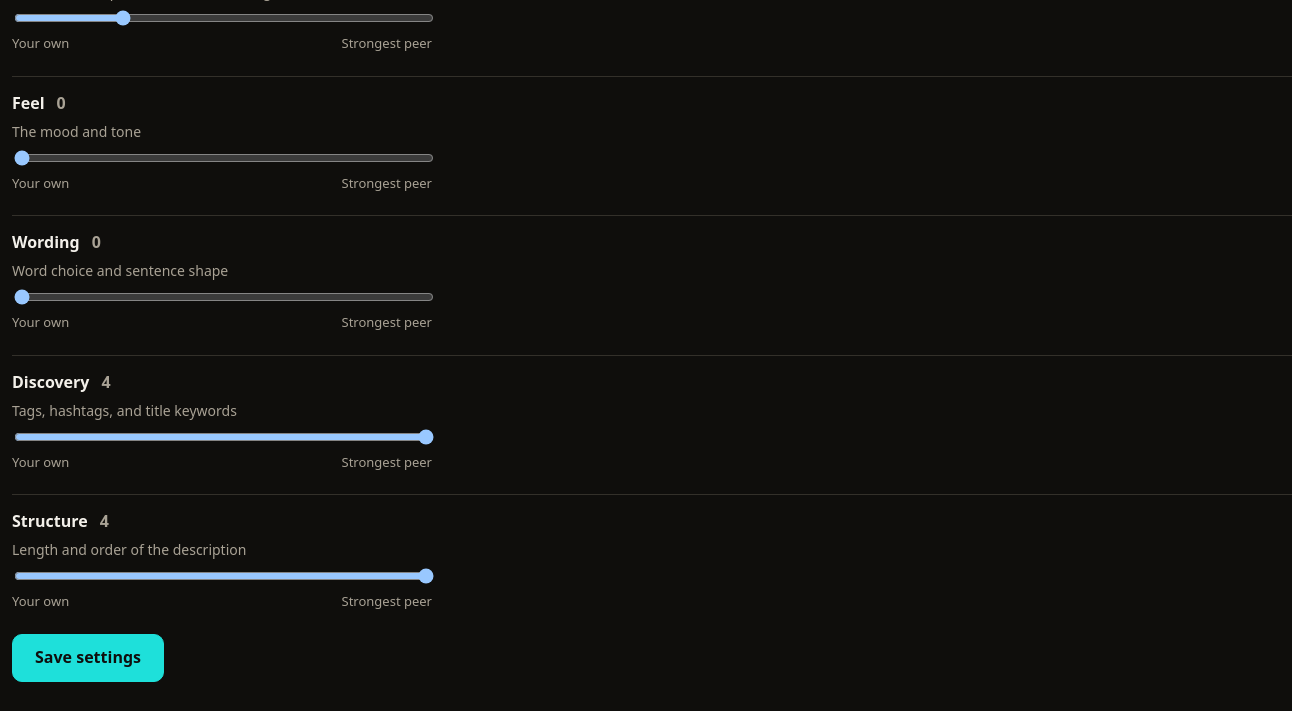
Test: InfluenceSliders › says it could not save when the request fails outright
(page scrolled)
What coordinates should you click on to do the following:
click the button "Save settings"
I would click on:
 (88, 658)
Its box is [12,634,164,682].
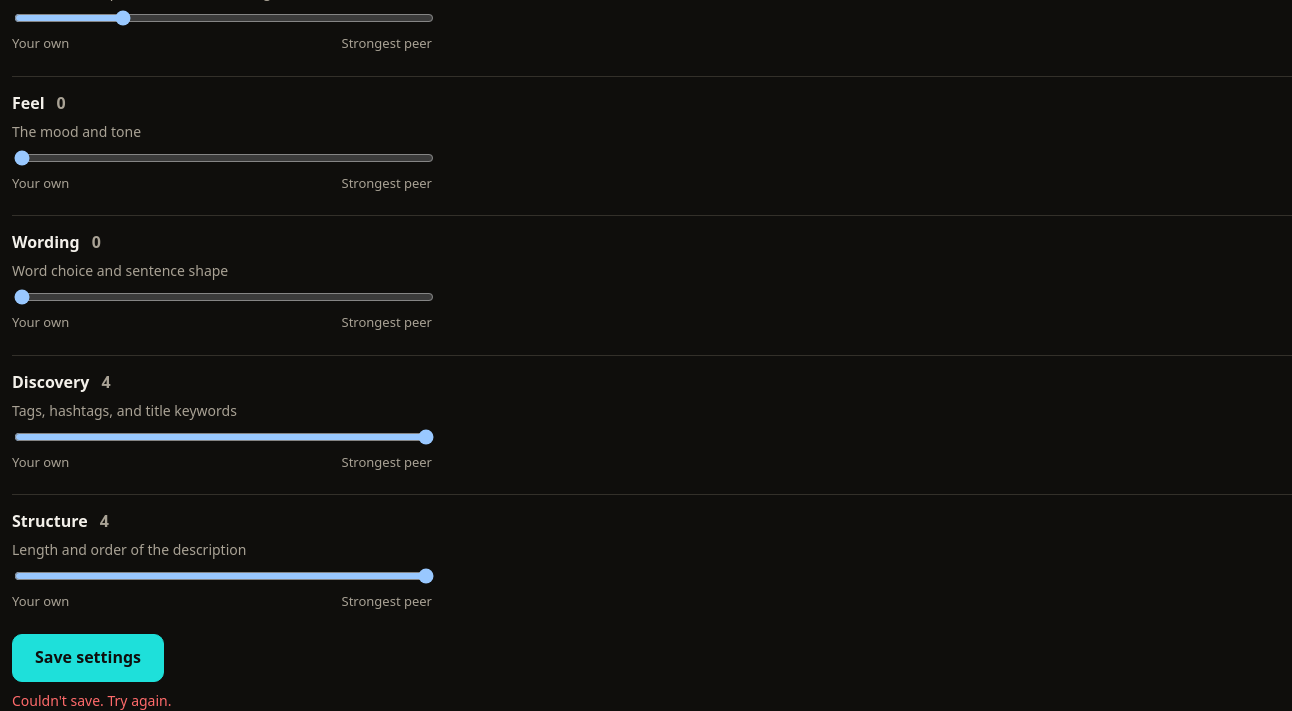
expect the text "Couldn't save. Try again." is shown: met, box [12,690,172,710]
